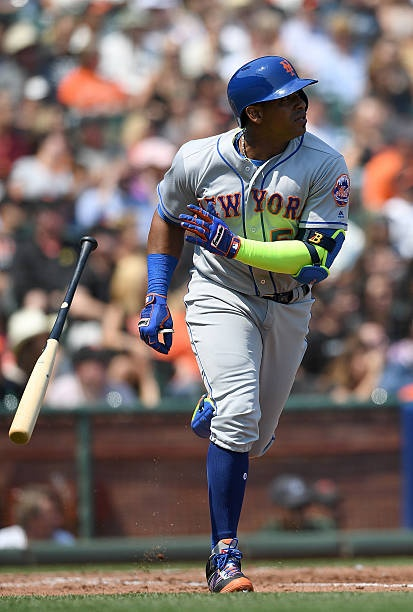bita: (10, 233, 99, 451)
